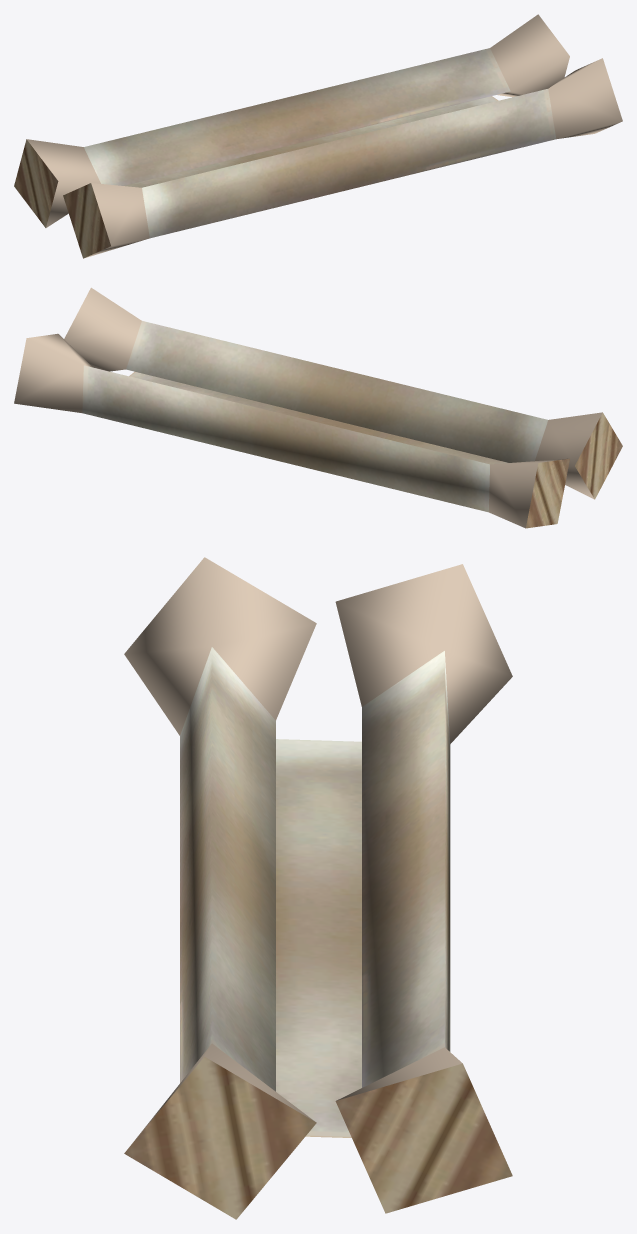
Rendered from scrollb01.obj.
3 renders of one model, top to bottom at view 1: azimuth 30°, elevation 25°; view 2: azimuth 150°, elevation 25°; view 3: azimuth 270°, elevation 25°, orthographic. The views are drawn at different scales.
Parts seen in each view (by area): view 1: scrollb01; view 2: scrollb01; view 3: scrollb01.
Boxes of the visible parts, bbox=[...] form: scrollb01: bbox=[14, 14, 622, 258]; scrollb01: bbox=[14, 287, 622, 528]; scrollb01: bbox=[124, 557, 512, 1219].
Bounding box in the file's own units: 0.9041 × 0.1378 × 0.2974.
1 material, 1 textured.
